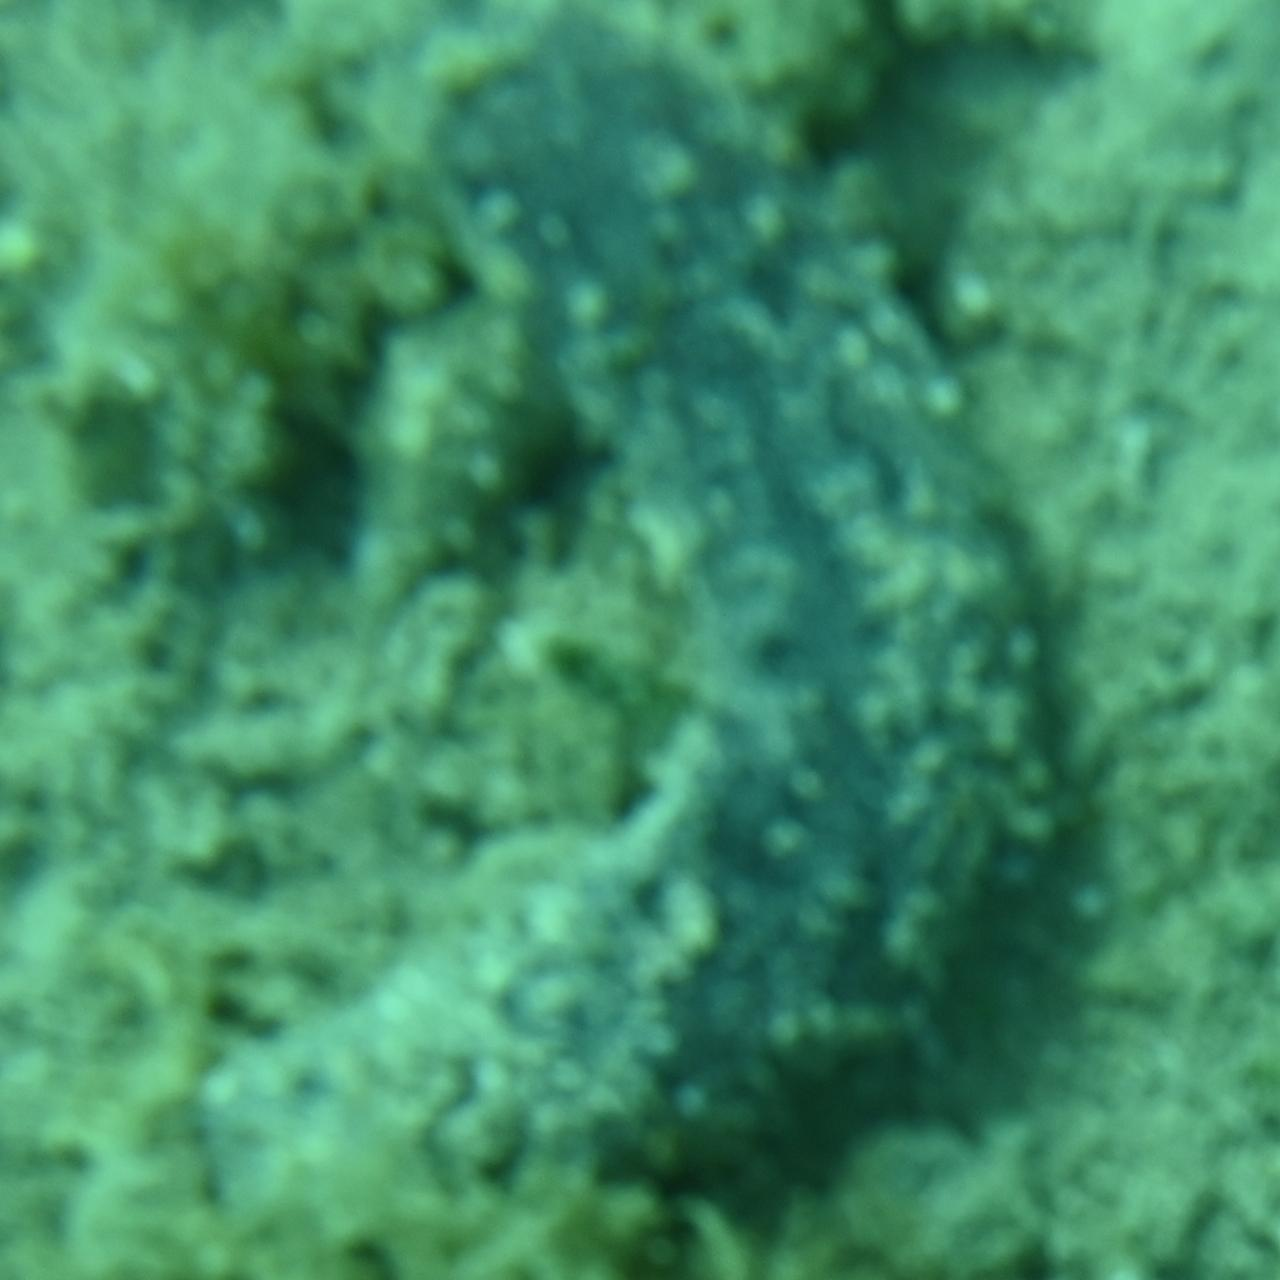Holothuria tubulosa: (175, 0, 1105, 1280)
